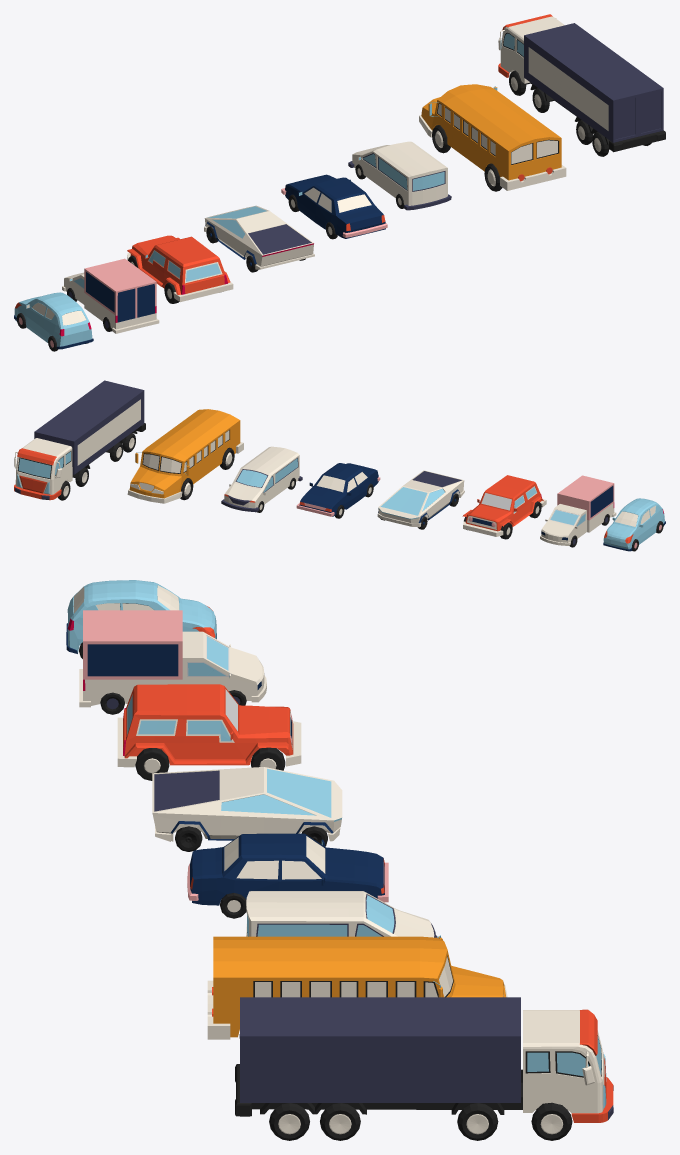
The model's file is cars.dae.
3 renders of one model, top to bottom at view 1: azimuth 30°, elevation 25°; view 2: azimuth 150°, elevation 25°; view 3: azimuth 270°, elevation 25°, orthographic. The views are drawn at different scales.
Visible parts, largest first — view 1: body (×7), box, Boole, car_cabin; view 2: body (×6), box, Boole, car_cabin; view 3: body (×7), box, Boole, car_cabin, tire2 (×2), tire3, tire4, tire1.
Boxes of the visible parts, box(x1,y1,x2,y2) form: body (×7): box(14, 82, 665, 349); box: box(524, 23, 663, 142); Boole: box(127, 235, 233, 302); car_cabin: box(498, 14, 564, 83); body (×6): box(127, 409, 665, 551); box: box(34, 380, 144, 474); Boole: box(462, 475, 546, 536); car_cabin: box(14, 438, 72, 500); body (×7): box(66, 580, 562, 1116); box: box(240, 997, 520, 1102); Boole: box(117, 684, 301, 767); car_cabin: box(523, 1009, 613, 1122); tire2 (×2): box(135, 748, 498, 1140); tire3: box(320, 1103, 360, 1140); tire4: box(269, 1103, 309, 1140); tire1: box(531, 1102, 572, 1140).
Bounding box in the file's own units: 3410 × 333 × 1540.
